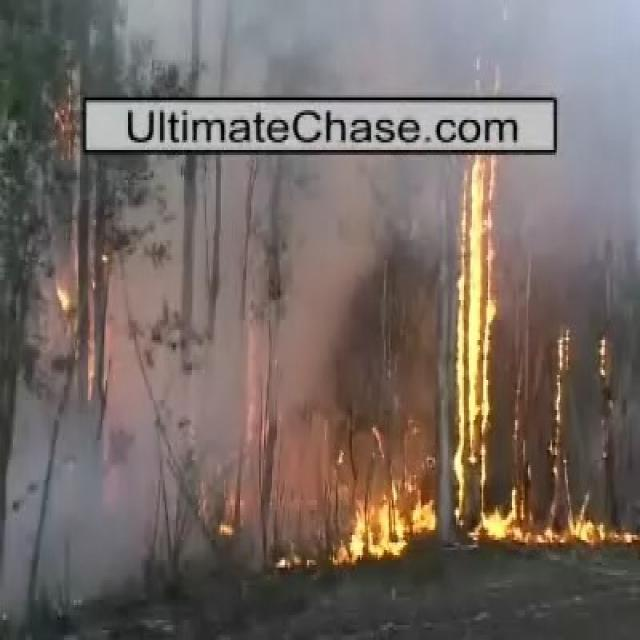fire: (458, 162, 492, 496), (350, 497, 434, 560)
smoke: (15, 418, 96, 599), (508, 3, 630, 88)
